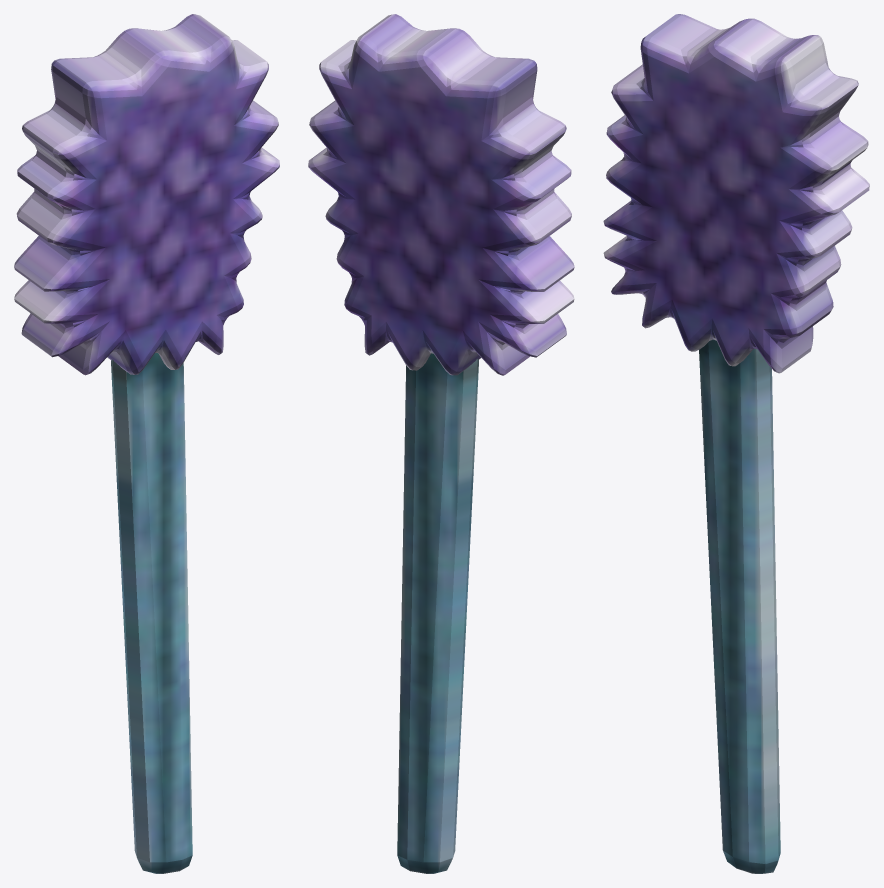
The model's file is singleherb.fbx.
3 renders of one model, left to right at view 1: azimuth 30°, elevation 25°; view 2: azimuth 150°, elevation 25°; view 3: azimuth 330°, elevation 25°, orthographic.
Parts seen in each view (by area): view 1: floersing, stem; view 2: floersing, stem; view 3: floersing, stem.
Part boxes in pixels (x1=…): floersing: x1=14, y1=14, x2=279, y2=375; stem: x1=111, y1=353, x2=192, y2=873; floersing: x1=308, y1=14, x2=574, y2=375; stem: x1=397, y1=353, x2=478, y2=873; floersing: x1=603, y1=14, x2=869, y2=373; stem: x1=699, y1=339, x2=780, y2=873.
Size of the model in its own units: 28.41 by 96.25 by 8.96.
